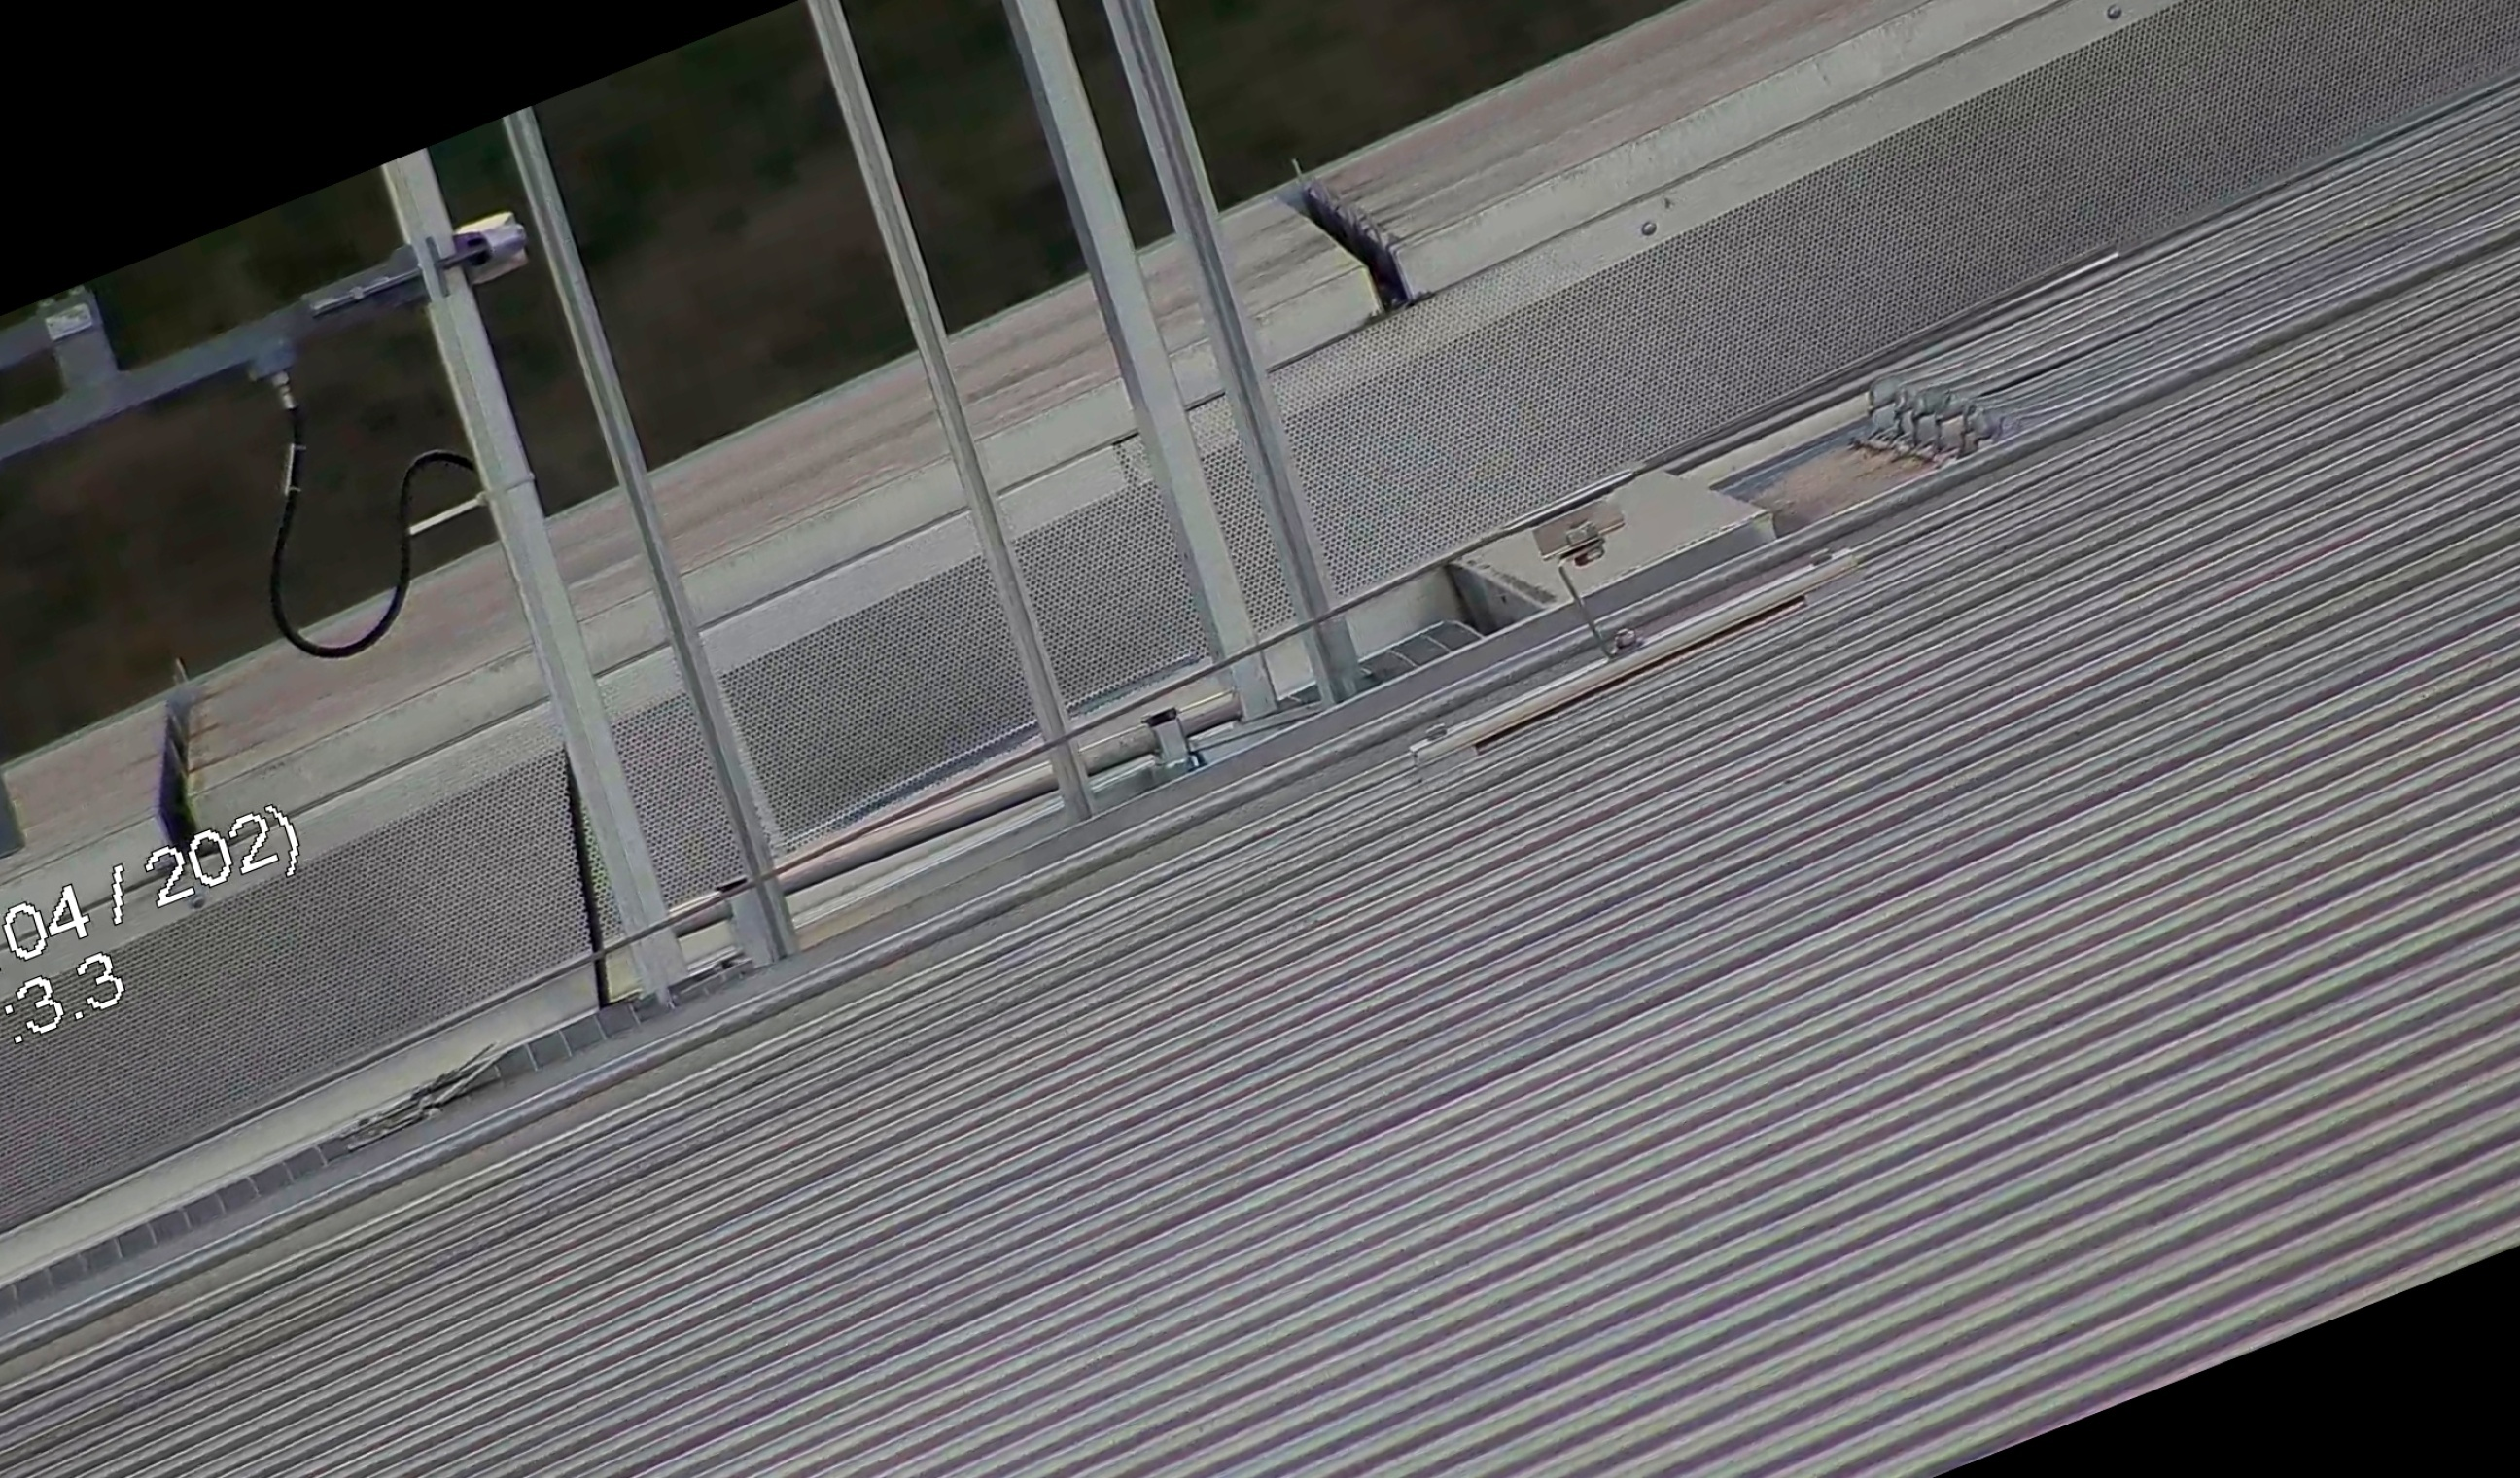Other: (1254, 114, 1447, 348)
